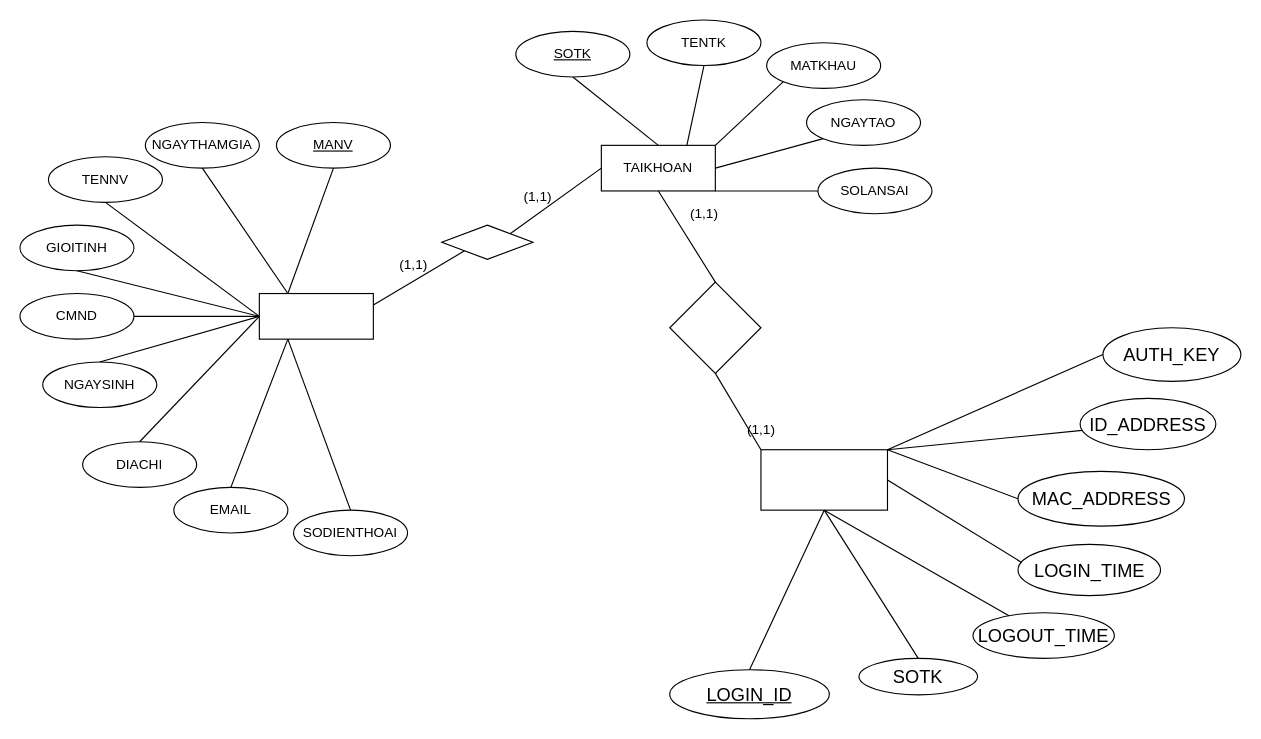
The diagram is 1261 pixels wide and 739 high, and some of its shapes have lost their labels. Each missing label, with the box of its shape:
co: (441, 224, 533, 259)
Kết nối: (669, 281, 761, 373)
login_detail: (760, 449, 887, 510)
NHANVIEN: (258, 292, 373, 339)
